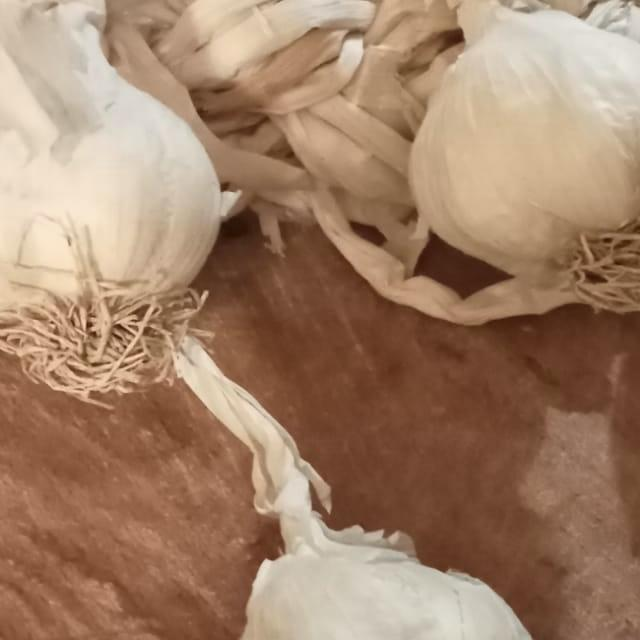garlic: (0, 0, 262, 412), (362, 0, 640, 332), (175, 482, 640, 640)
